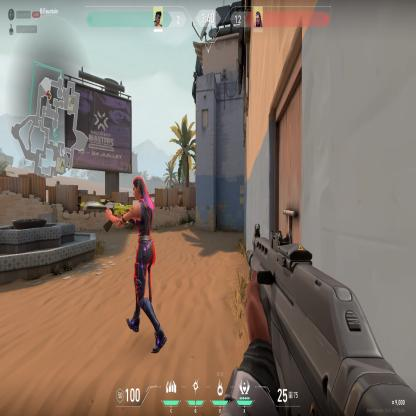enemy: (104, 175, 168, 353)
